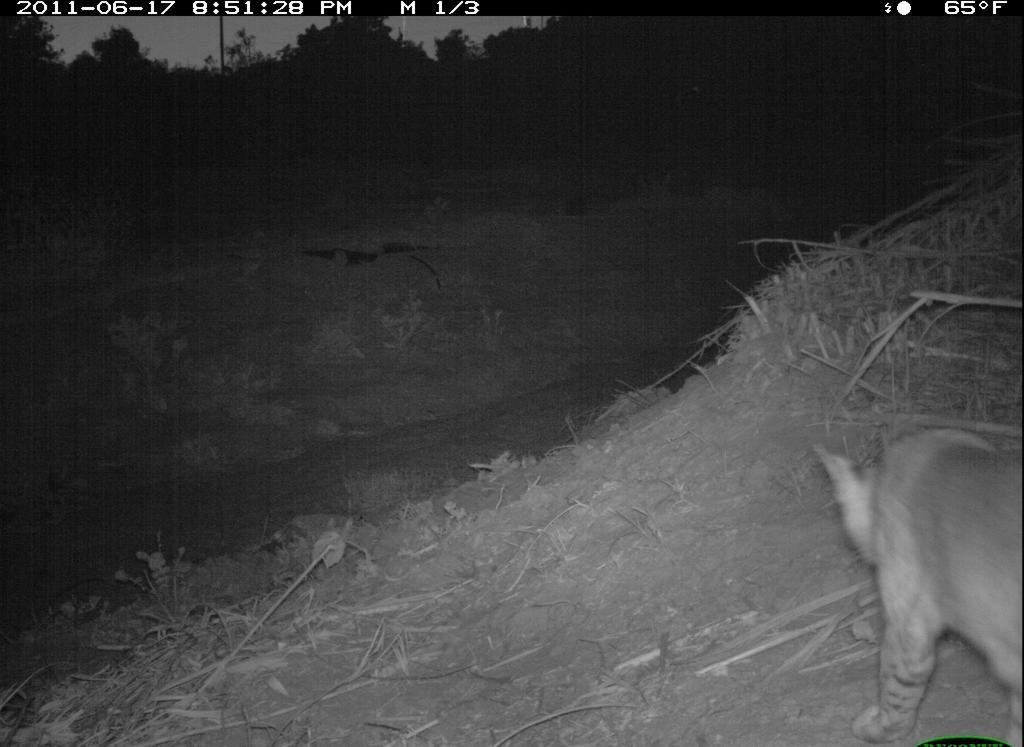bobcat: (803, 418, 1023, 743)
